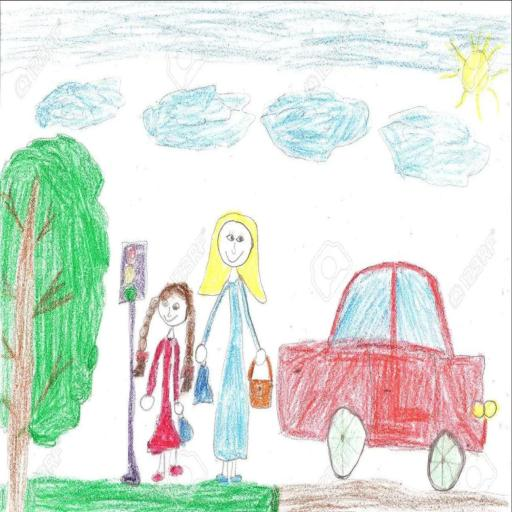person: (195, 208, 268, 478), (135, 274, 198, 485)
